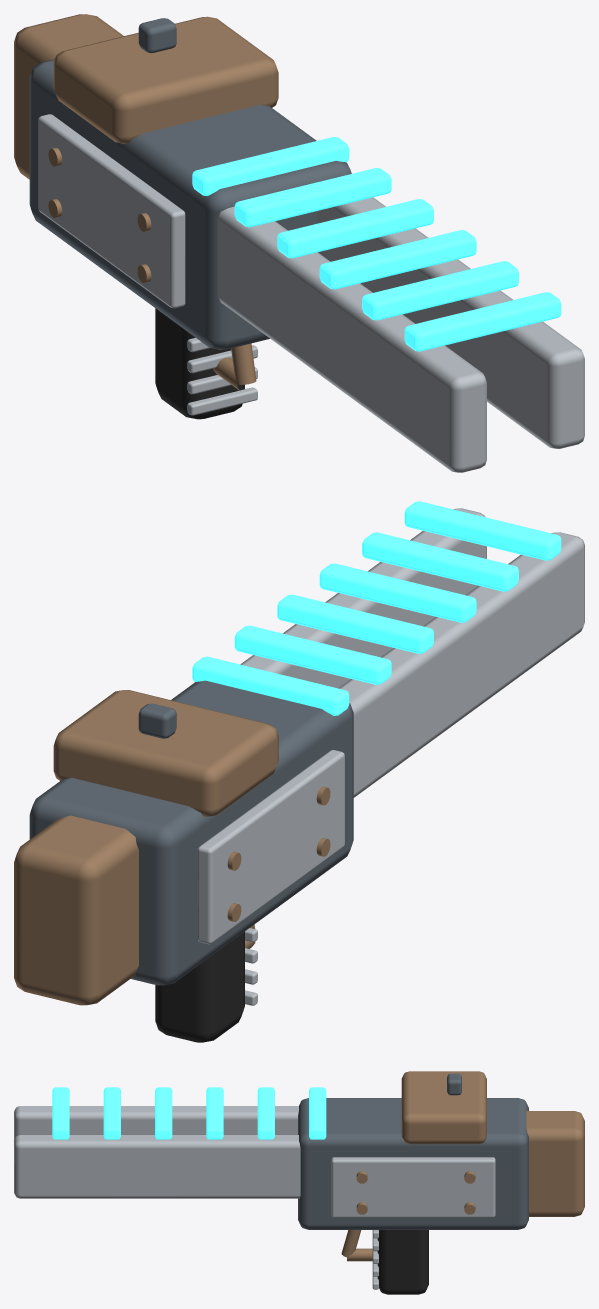
The model's file is arena-shooter-map-kit-rail-gun-pickup-2262da4f__23142.glb.
3 views of the same model, one above another, from view 1: azimuth 30°, elevation 25°; view 2: azimuth 150°, elevation 25°; view 3: azimuth 270°, elevation 25° (orthographic). The views are drawn at different scales.
Visible parts, largest first — view 1: rail-gun-pickup; view 2: rail-gun-pickup; view 3: rail-gun-pickup.
Part boxes in pixels (x1,y1,x2,y2): rail-gun-pickup: (14, 14, 584, 472); rail-gun-pickup: (14, 501, 584, 1042); rail-gun-pickup: (14, 1071, 584, 1294).
Bounding box in the file's own units: 0.307 × 0.55 × 1.34.
